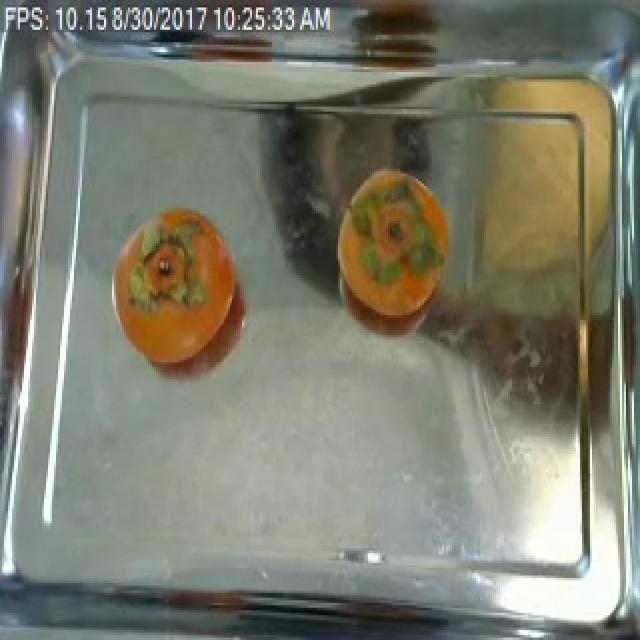Fruit: (104, 196, 250, 389), (322, 154, 460, 342), (272, 94, 414, 226)
